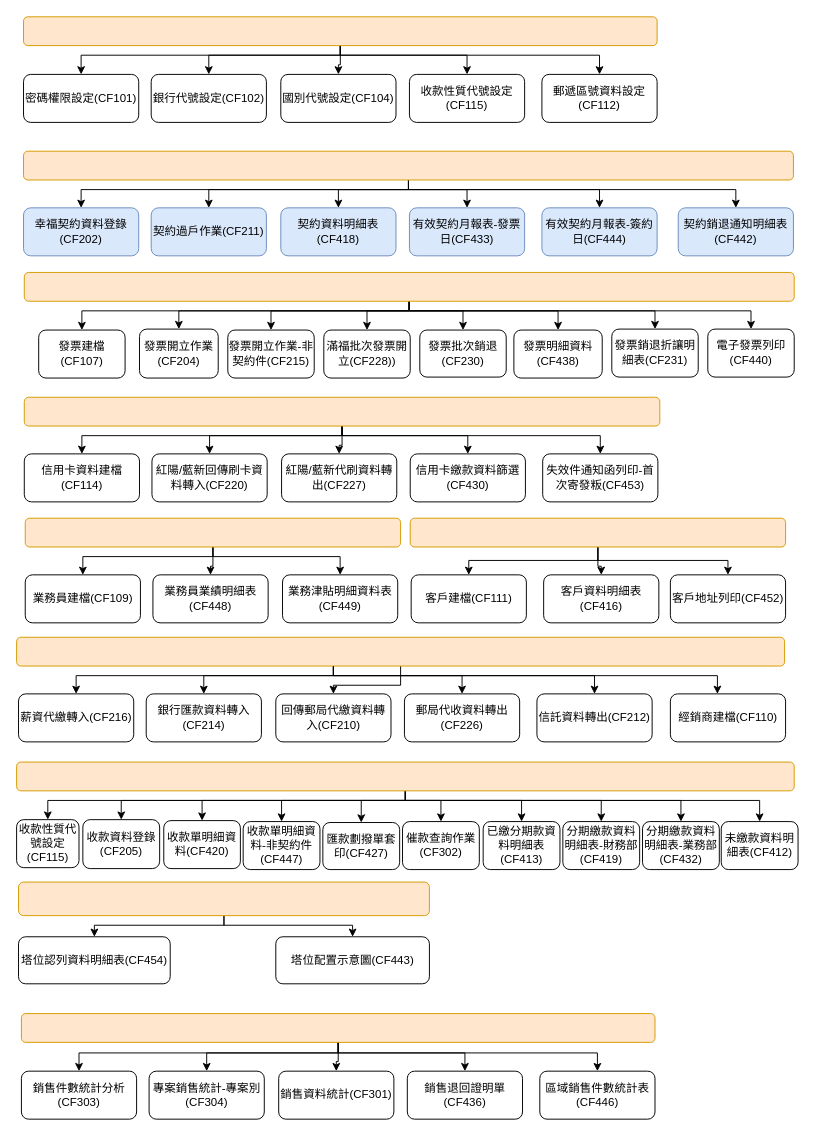
The diagram is 815 pixels wide and 1137 high, and some of its shapes have lost their labels. The shapes that lost their labels are listed below. From the top down, each one's box as (x1, y1, x2, y2) in pixels, then its label:
(23, 16, 657, 46): 基本資料相關設定
(23, 150, 793, 180): 契約相關功能
(23, 271, 794, 301): 發票相關功能
(23, 396, 660, 426): 信用卡相關功能
(24, 517, 401, 547): 業務員相關功能
(409, 517, 786, 547): 客戶相關功能
(16, 636, 785, 666): 轉入轉出相關功能
(16, 761, 794, 791): 收款匯款相關功能
(18, 881, 429, 916): 塔位相關功能
(20, 1013, 655, 1042): 銷售相關功能
